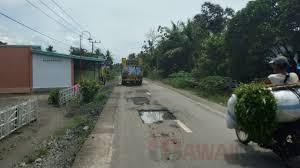Pothole: (134, 105, 194, 137), (115, 86, 158, 109)
